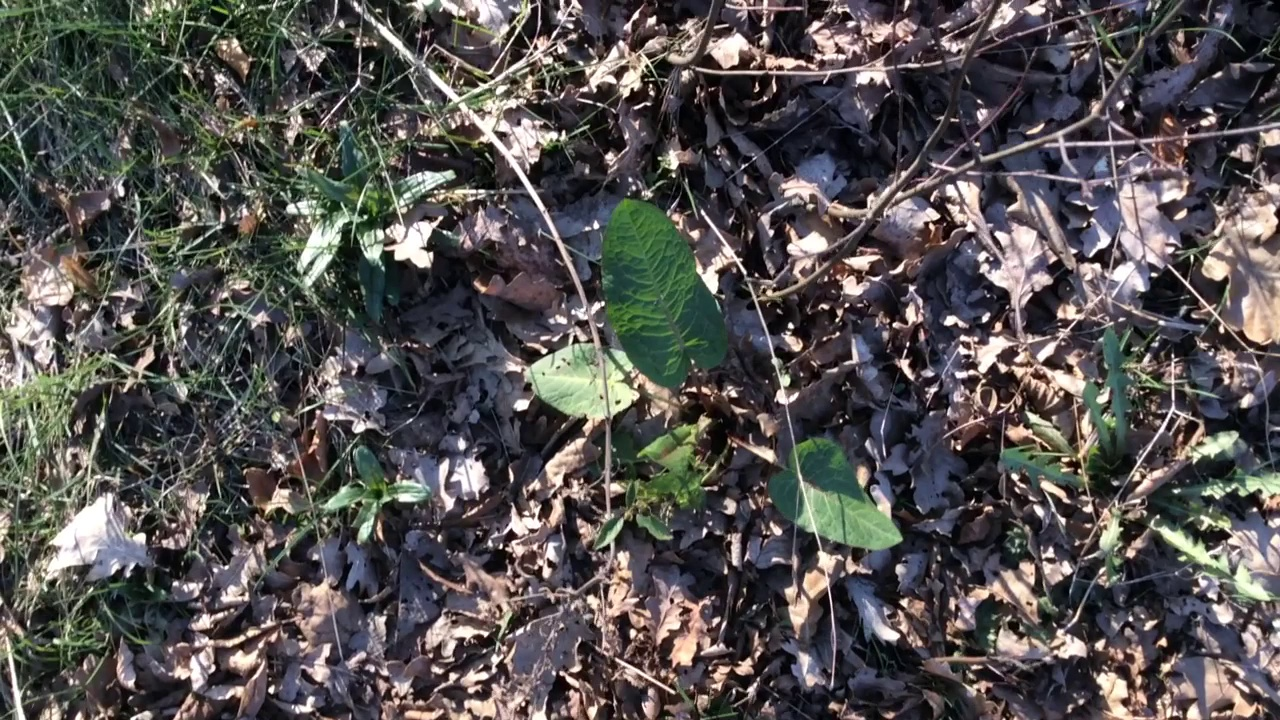rumex: (524, 199, 902, 550)
